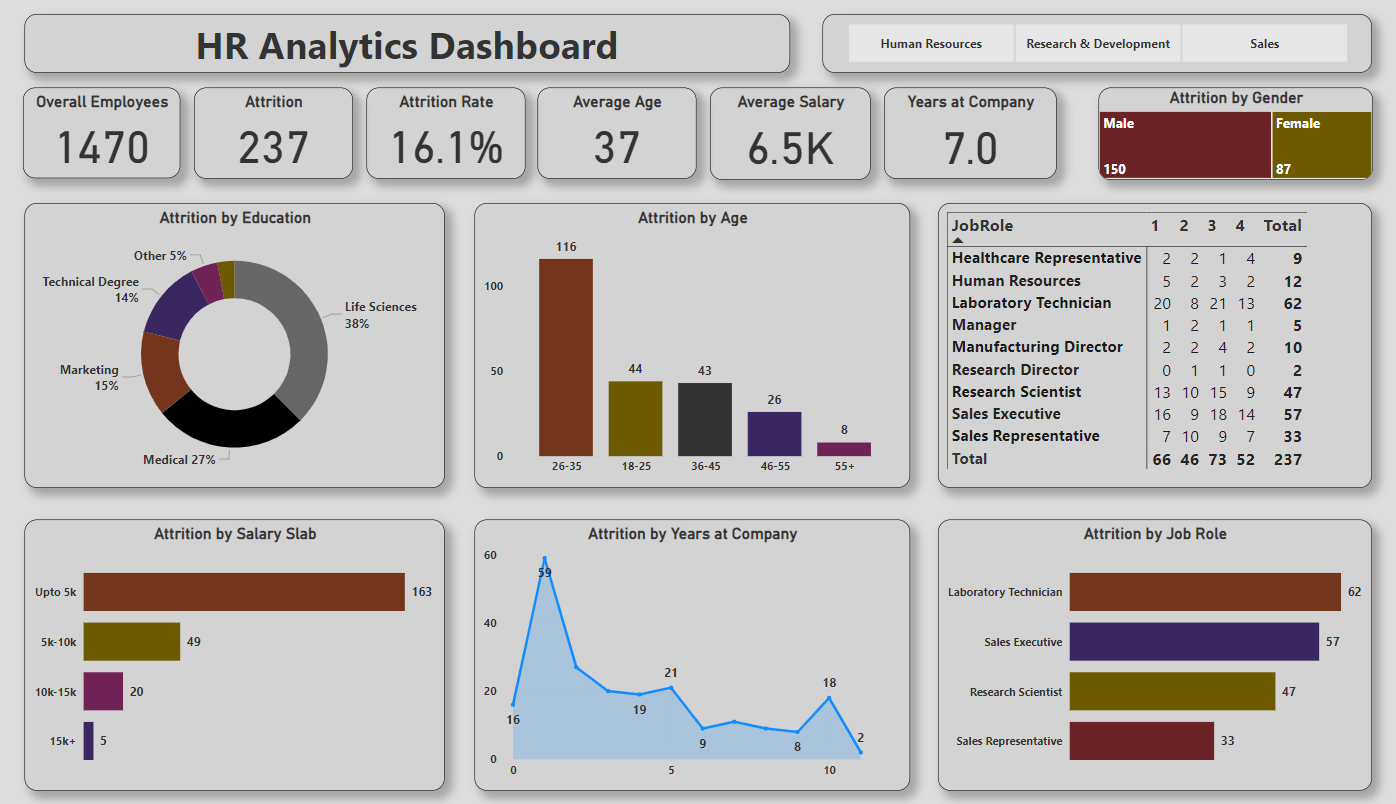

The page's visual inventory and layout, read from the dashboard file:
{"tool":"powerbi","page":{"name":"Page 1","canvas":[1700,980],"ordinal":0},"visuals":[{"type":"card","title":"Overall Employees","fields":{"Values":["CountNonNull(HR_Analytics.EmpID)"]},"box":[29.5,106.8,190.9,110.2],"z":0},{"type":"card","title":"Attrition","fields":{"Values":["Sum(HR_Analytics.AttritionCount)"]},"box":[236.3,106.8,192.4,110.4],"z":1},{"type":"card","title":"Attrition Rate","fields":{"Values":["HR_Analytics.AttritionRte"]},"box":[444.6,106.8,192.4,110.4],"z":2},{"type":"card","title":"Average Age","fields":{"Values":["Avg(HR_Analytics.Age)"]},"box":[652.9,106.8,192.4,110.4],"z":3},{"type":"card","title":"Average Salary","fields":{"Values":["Avg(HR_Analytics.MonthlyIncome)"]},"box":[861.2,106.8,194.9,112.2],"z":4},{"type":"card","title":"Years at Company","fields":{"Values":["Avg(HR_Analytics.YearsAtCompany)"]},"box":[1071.9,106.8,209.6,110.9],"z":5},{"type":"donutChart","title":"Attrition by Education","fields":{"Category":["HR_Analytics.EducationField"],"Y":["Sum(HR_Analytics.AttritionCount)"]},"box":[30.5,247.7,509.6,345.2],"z":6},{"type":"columnChart","title":"Attrition by Age","fields":{"Category":["HR_Analytics.AgeGroup"],"Y":["Sum(HR_Analytics.AttritionCount)"]},"box":[575.6,247.7,527.9,345.2],"z":7},{"type":"pivotTable","fields":{"Rows":["HR_Analytics.JobRole"],"Columns":["HR_Analytics.JobSatisfaction"],"Values":["Sum(HR_Analytics.AttritionCount)"]},"box":[1139.1,247.7,525.9,345.2],"z":8},{"type":"barChart","title":"Attrition by Salary Slab","fields":{"Y":["Sum(HR_Analytics.AttritionCount)"],"Category":["HR_Analytics.SalarySlab"]},"box":[30.5,631.5,509.6,328.9],"z":9},{"type":"areaChart","title":"Attrition by Years at Company","fields":{"Category":["HR_Analytics.YearsAtCompany"],"Y":["Sum(HR_Analytics.AttritionCount)"]},"box":[575.6,631.5,527.9,328.9],"z":10},{"type":"barChart","title":"Attrition by Job Role","fields":{"Y":["Sum(HR_Analytics.AttritionCount)"],"Category":["HR_Analytics.JobRole"]},"box":[1139.1,631.5,525.9,328.9],"z":11},{"type":"actionButton","box":[30.5,18.3,927.9,71.1],"z":12},{"type":"slicer","fields":{"Values":["HR_Analytics.Department"]},"box":[999,18.3,666,71.1],"z":13},{"type":"treemap","title":"Attrition by Gender","fields":{"Group":["HR_Analytics.Gender"],"Values":["Sum(HR_Analytics.AttritionCount)"]},"box":[1332,107.6,333,111.7],"z":14}]}

Visuals, with their boxes in screenshot pixels (x1, y1, x2, y2), scaled from the page's 1700x980 canvas onto the 1396x804 screenshot:
"Overall Employees" card: 24 88 181 178
"Attrition" card: 194 88 352 178
"Attrition Rate" card: 365 88 523 178
"Average Age" card: 536 88 694 178
"Average Salary" card: 707 88 867 180
"Years at Company" card: 880 88 1052 179
"Attrition by Education" donutChart: 25 203 444 486
"Attrition by Age" columnChart: 473 203 906 486
pivotTable - HR_Analytics.JobRole x HR_Analytics.JobSatisfaction: 935 203 1367 486
"Attrition by Salary Slab" barChart: 25 518 444 788
"Attrition by Years at Company" areaChart: 473 518 906 788
"Attrition by Job Role" barChart: 935 518 1367 788
actionButton: 25 15 787 73
slicer - HR_Analytics.Department: 820 15 1367 73
"Attrition by Gender" treemap: 1094 88 1367 180
